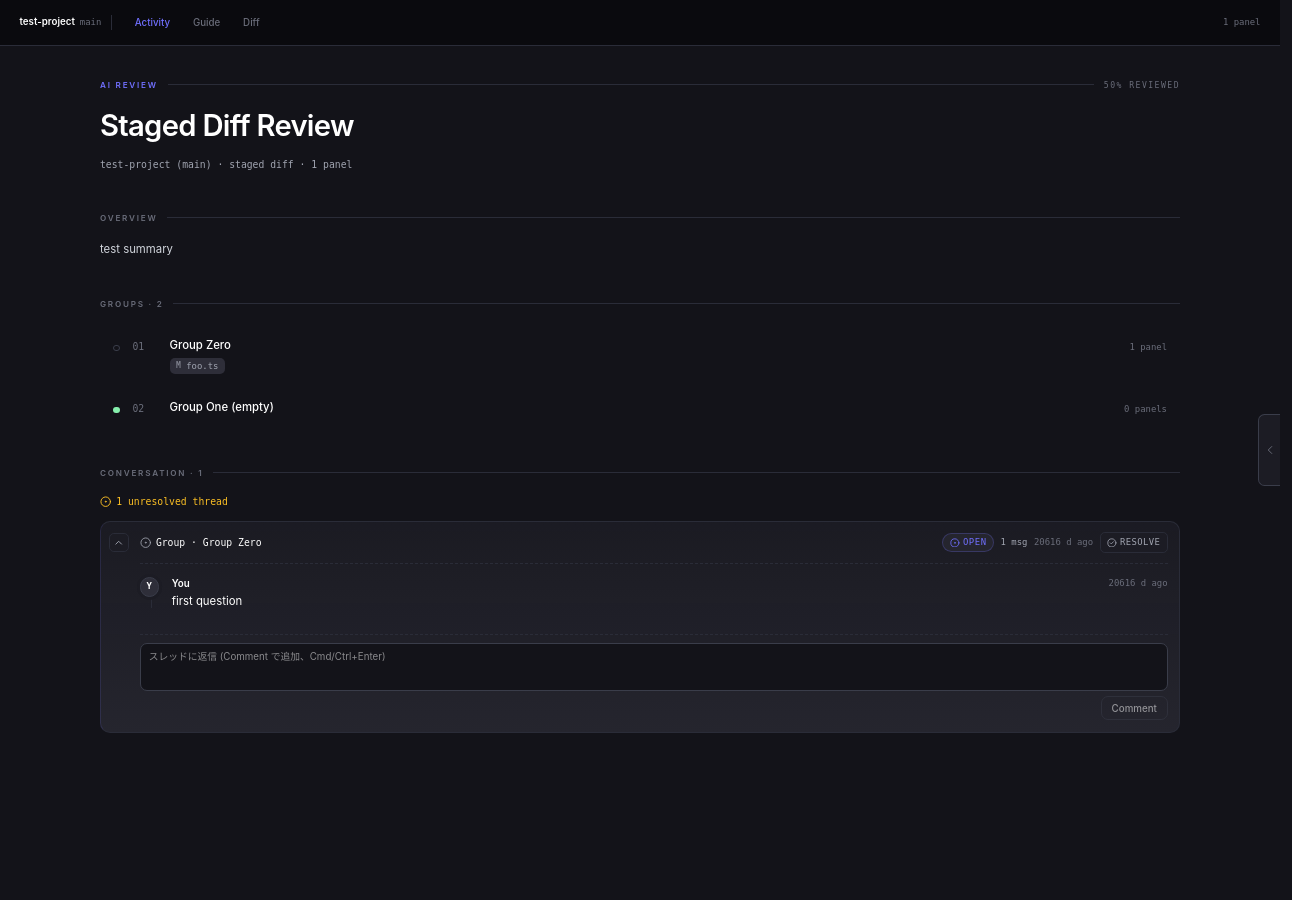
it: resolved スレッドへの返信 › カードの Resolve (local override) 後に返信しても override が破棄されて open に戻る
// local override で resolved 化 → inactive 群へ移動
Click the button "Resolve" at [1134, 543], box [1100,532,1168,553]
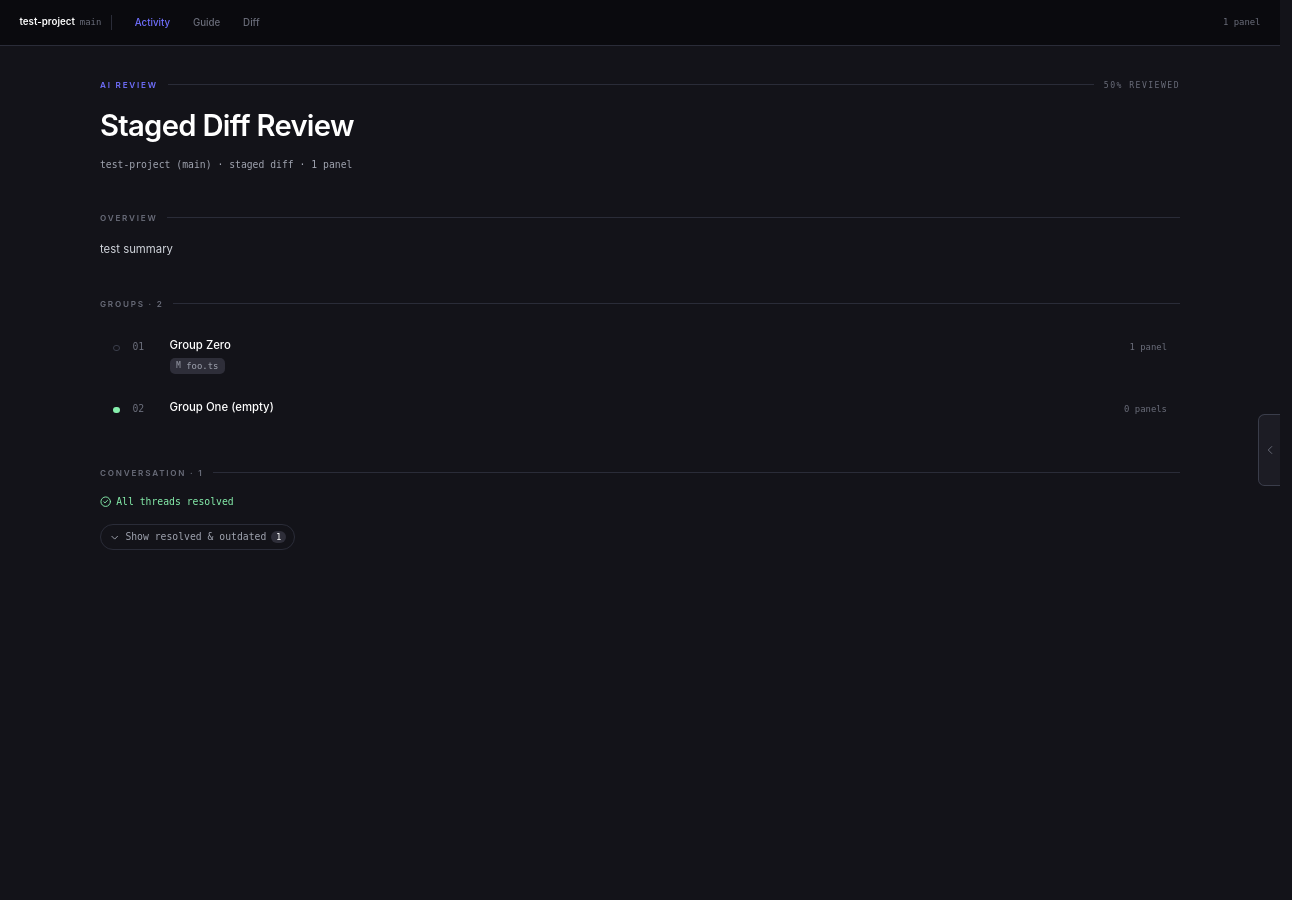
Result: the text "All threads resolved" is shown at [116,495,234,508]
Click the button "Show resolved & outdated1" at [198, 537], box [100,524,295,550]
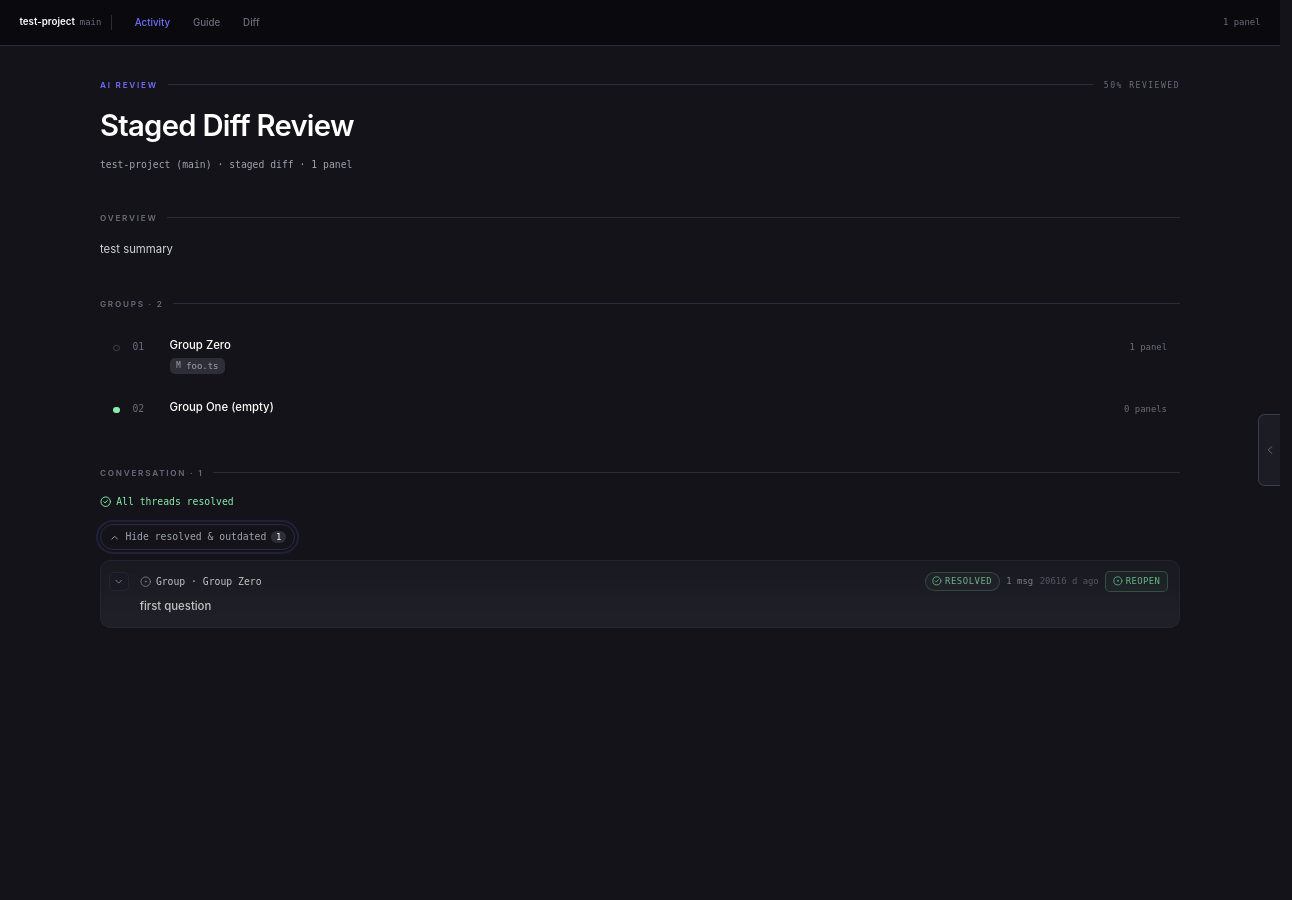
Click the button named "Expand thread" at [119, 581], box [109,572,129,591]
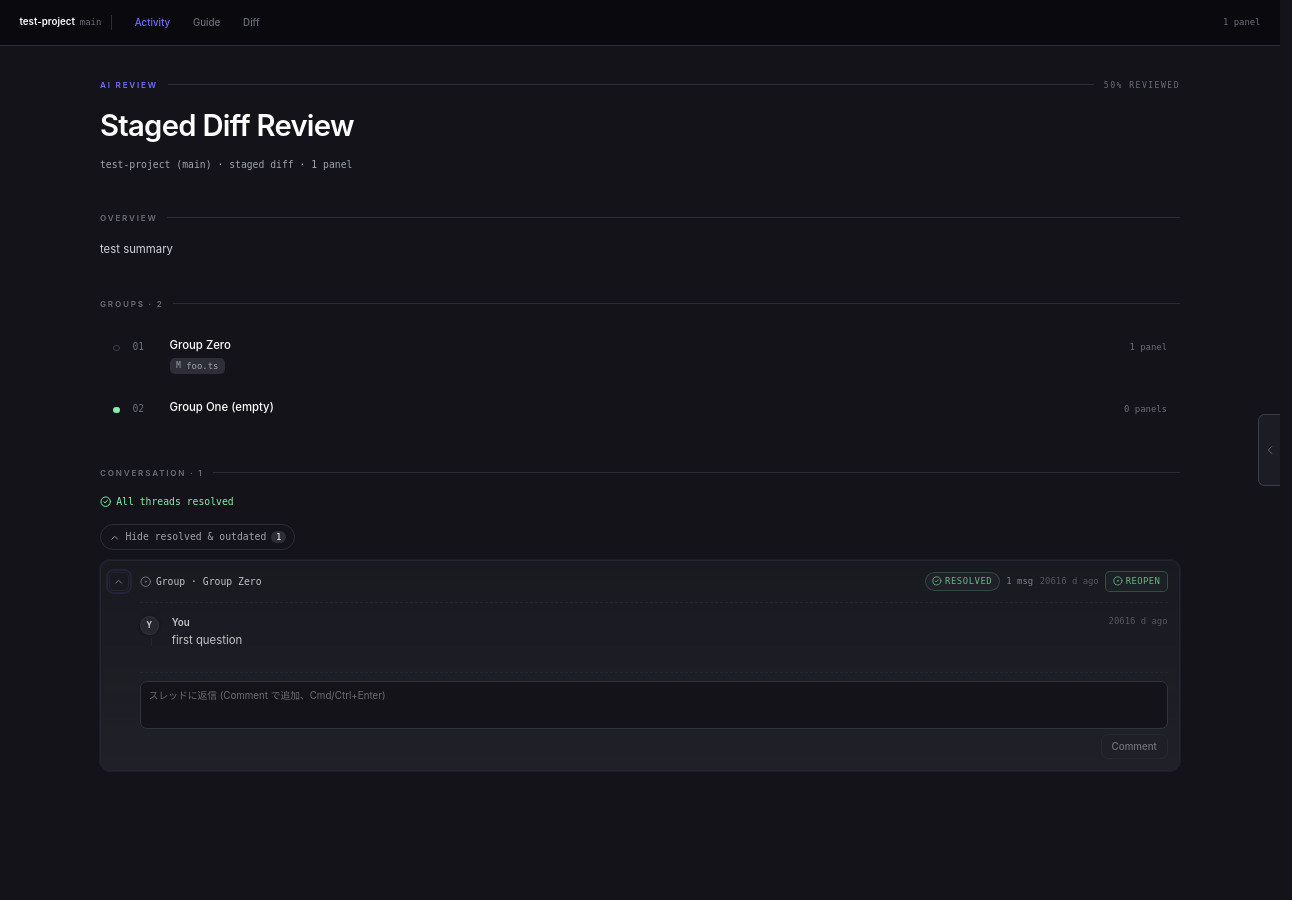
Type "override discarded" into the text box named "Reply to thread" at [654, 706], box [140,682,1168,730]
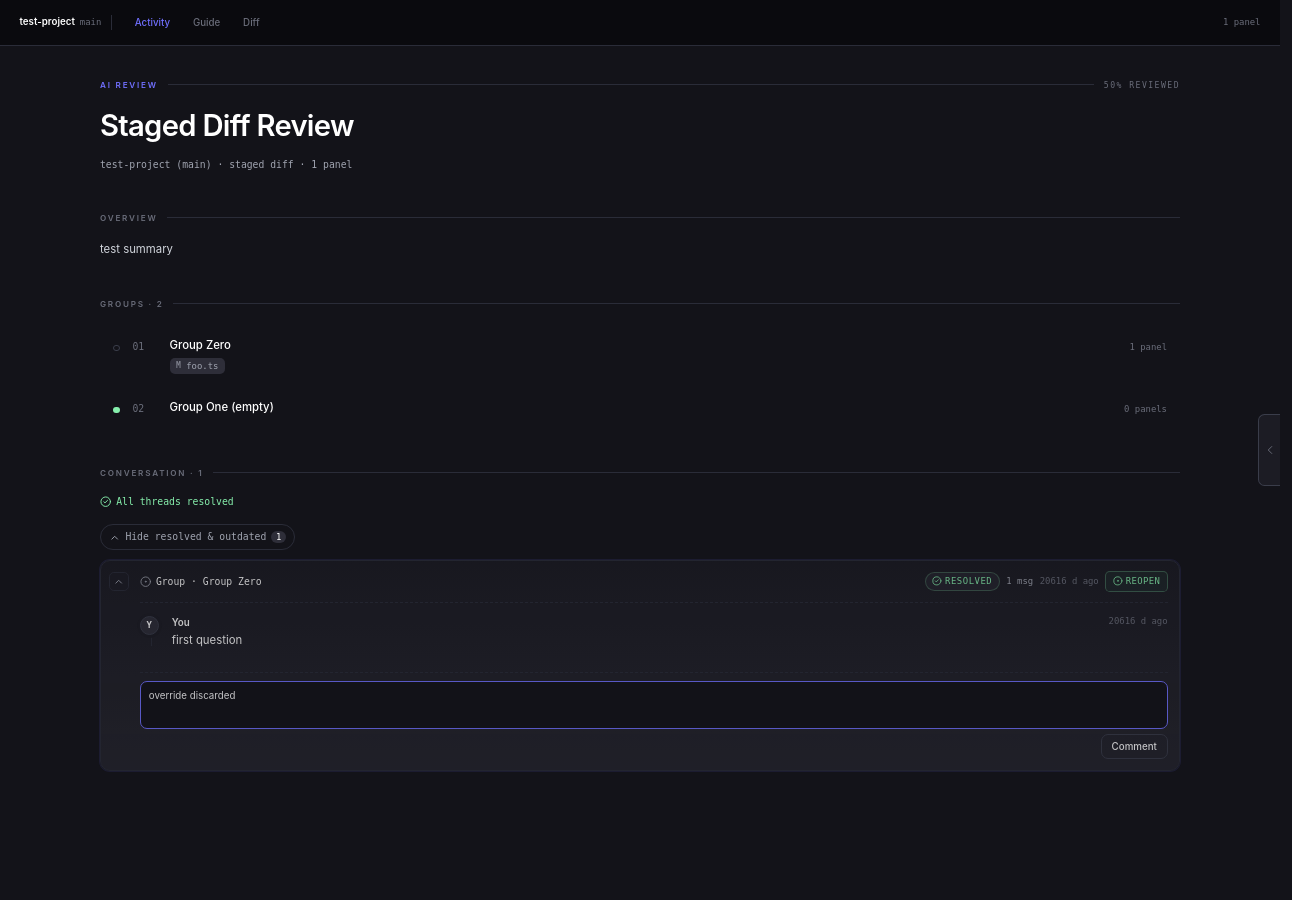
Click the button "Comment" at [1134, 747], box [1101,734,1168,759]
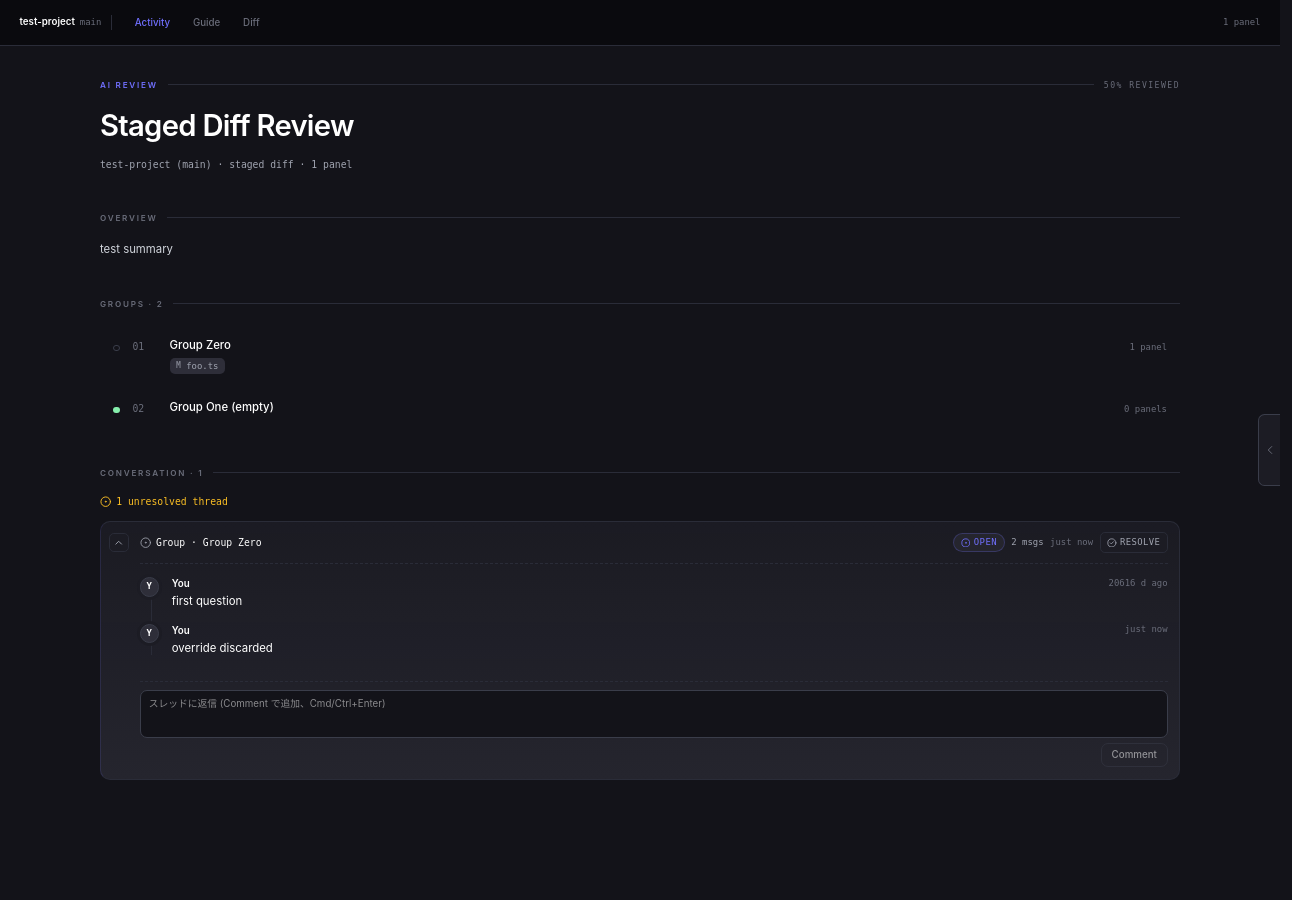
Result: the text "1 unresolved thread" is shown at [116,495,228,508]
